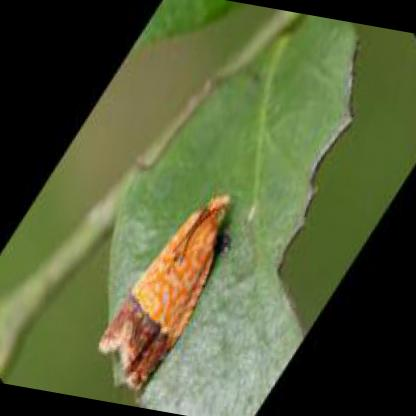Leaf Webber: (95, 187, 234, 399)
